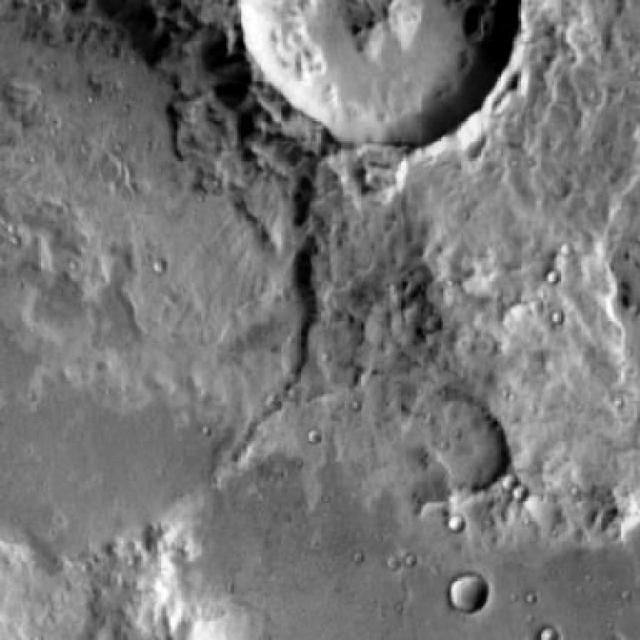crater: (0, 0, 325, 557), (236, 0, 512, 152), (408, 392, 503, 488), (446, 576, 485, 615), (450, 513, 468, 530), (547, 266, 564, 283), (534, 627, 556, 640)
